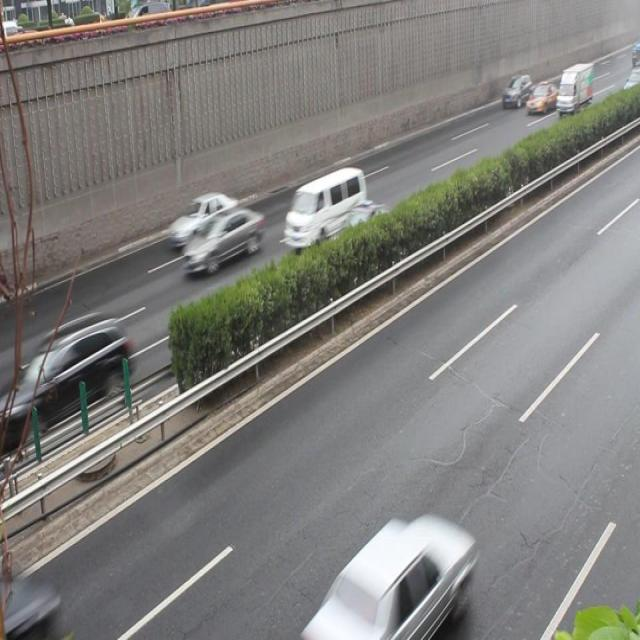car: (321, 511, 470, 639), (17, 313, 128, 421), (181, 205, 260, 273), (165, 191, 238, 246), (330, 202, 392, 258), (498, 71, 529, 108), (523, 80, 556, 112)
